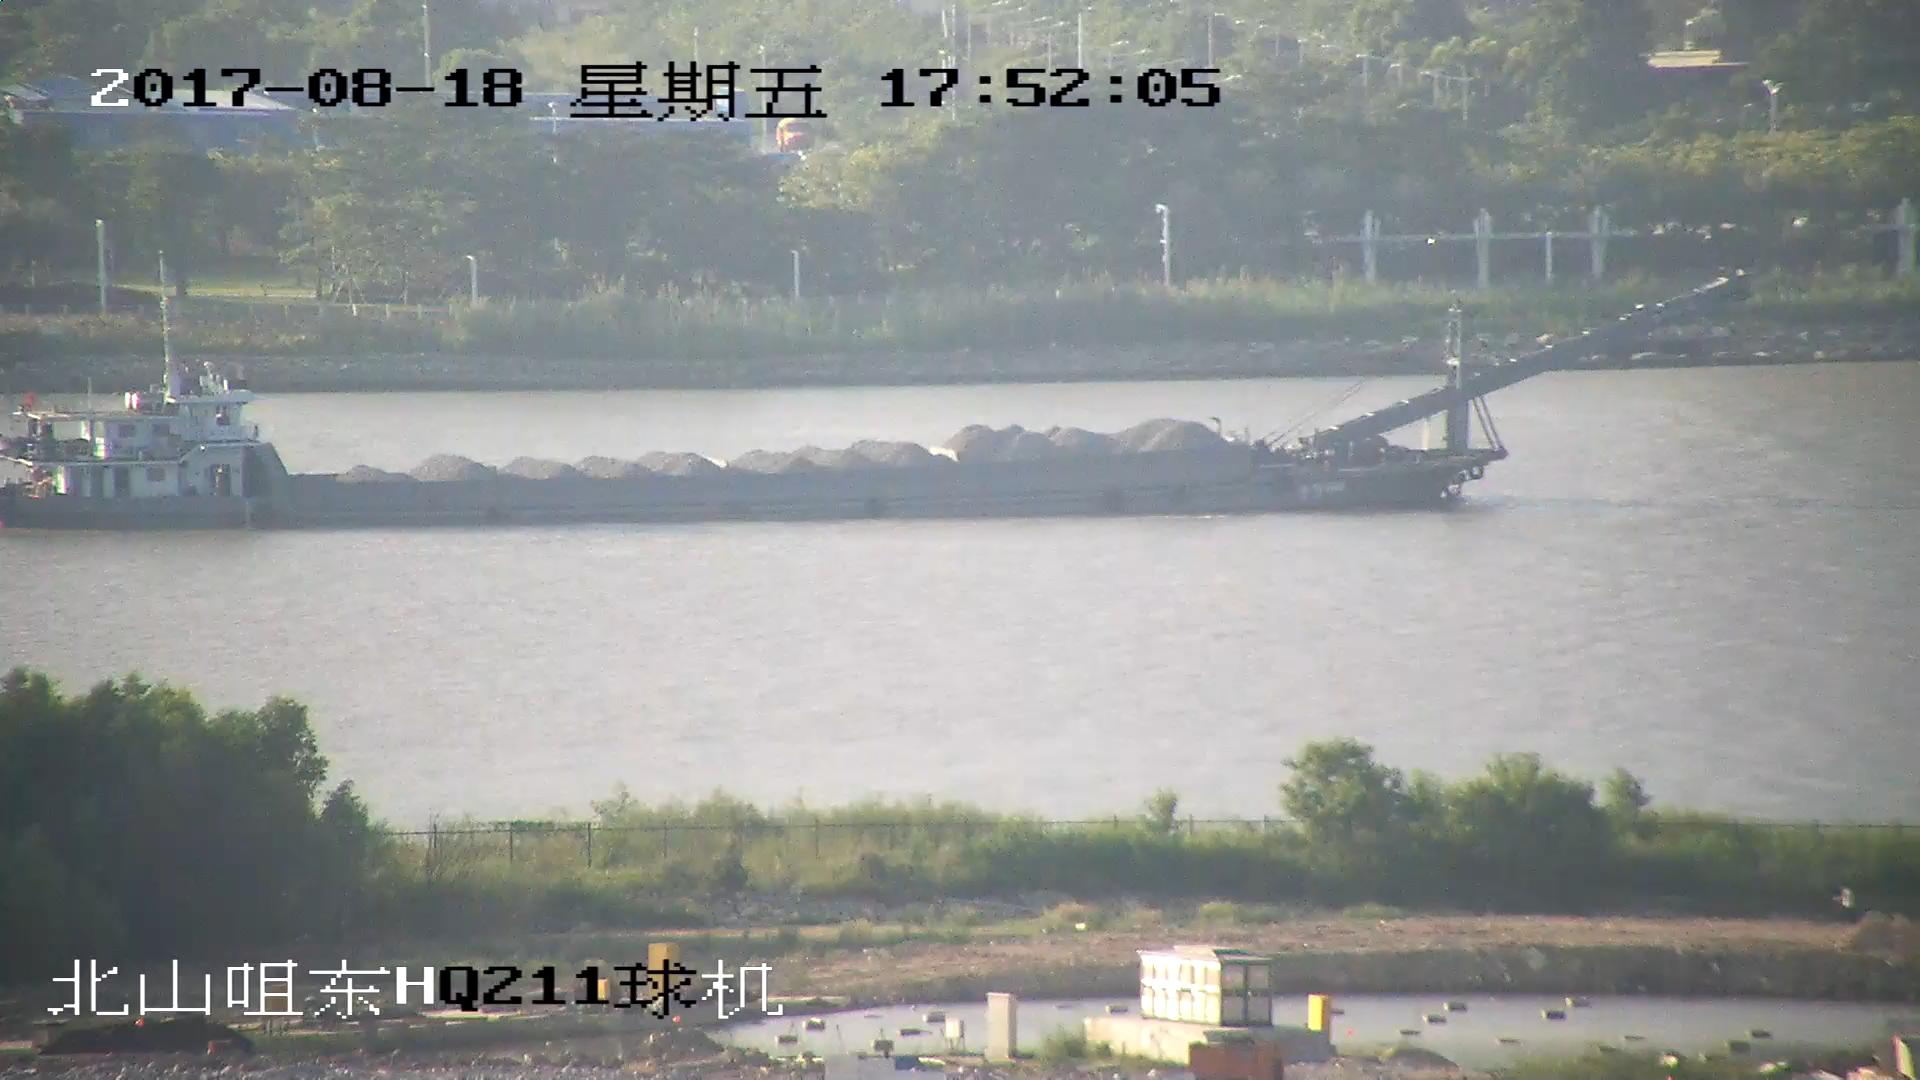ore carrier: (1, 272, 1746, 529)
